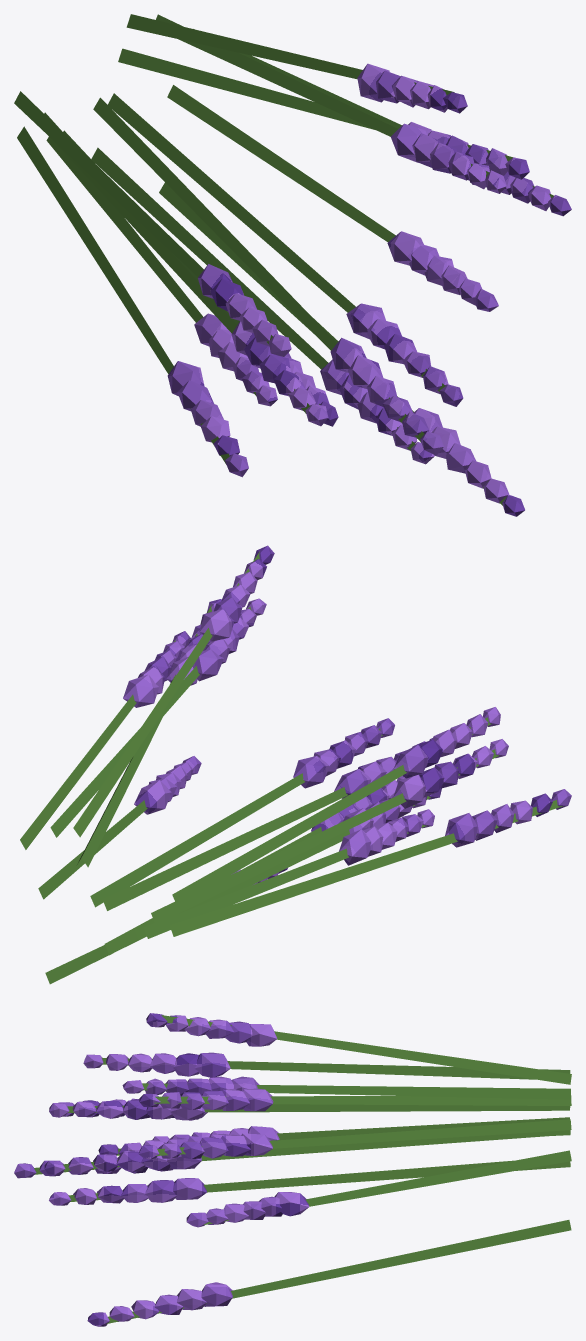
File: herb_lavender.glb
3 views of the same model, one above another, from view 1: azimuth 30°, elevation 25°; view 2: azimuth 150°, elevation 25°; view 3: azimuth 270°, elevation 25° (orthographic). The views are drawn at different scales.
Parts seen in each view (by area): view 1: stems, fruit_lavender; view 2: stems, fruit_lavender; view 3: stems, fruit_lavender.
Boxes of the visible parts, x1,y1,x2,y2 form: stems: [14, 14, 553, 505]; fruit_lavender: [167, 63, 571, 516]; stems: [20, 551, 562, 984]; fruit_lavender: [123, 545, 571, 884]; stems: [34, 1015, 571, 1323]; fruit_lavender: [14, 1013, 309, 1326].
Bounding box in the file's own units: 0.4421 × 0.4295 × 0.7094.
2 materials, 1 textured.
